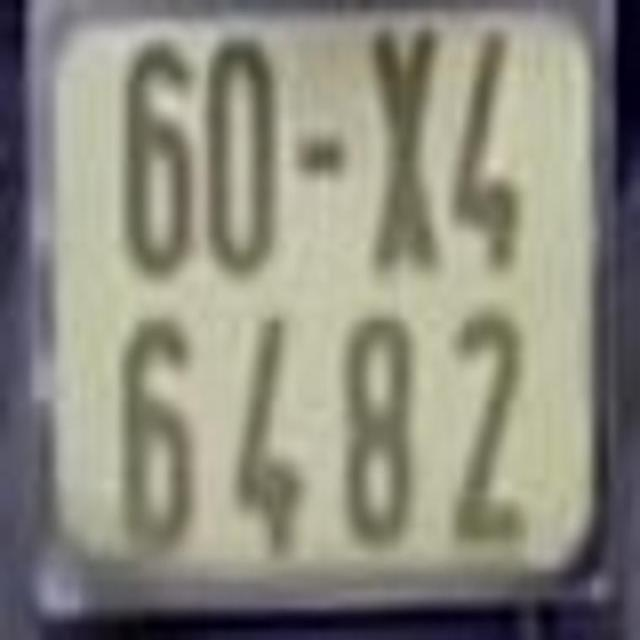0: (202, 42, 282, 273)
2: (445, 299, 534, 551)
4: (443, 26, 536, 271), (228, 311, 302, 556)
6: (116, 313, 195, 546), (121, 37, 195, 280)
8: (342, 296, 413, 549)
X: (360, 19, 436, 272)
